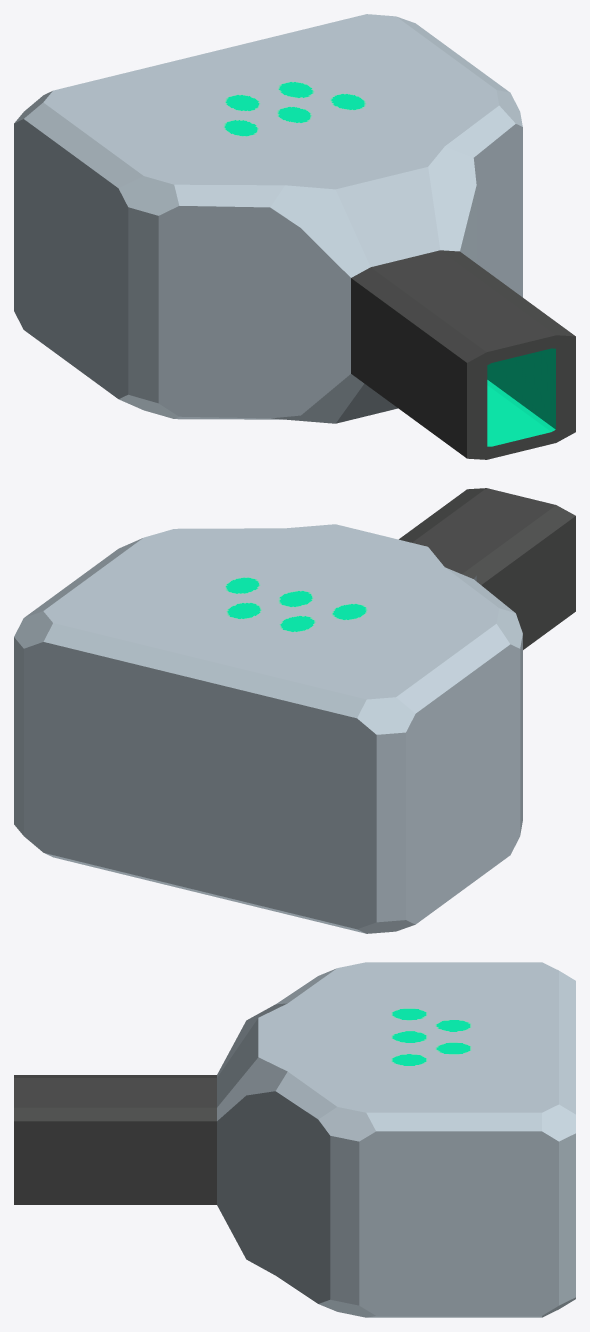
File: Aerion_Nova_Pulsegun.obj
3 views of the same model, one above another, from view 1: azimuth 30°, elevation 25°; view 2: azimuth 150°, elevation 25°; view 3: azimuth 270°, elevation 25° (orthographic). The views are drawn at different scales.
Parts seen in each view (by area): view 1: Cube_Cube.004; view 2: Cube_Cube.004; view 3: Cube_Cube.004.
Boxes of the visible parts, left/top/right/bottom form: Cube_Cube.004: left=14, top=14, right=575, bottom=459; Cube_Cube.004: left=14, top=488, right=575, bottom=933; Cube_Cube.004: left=14, top=962, right=575, bottom=1317.
Size of the model in its own units: 0.7 by 0.4 by 0.9939.
